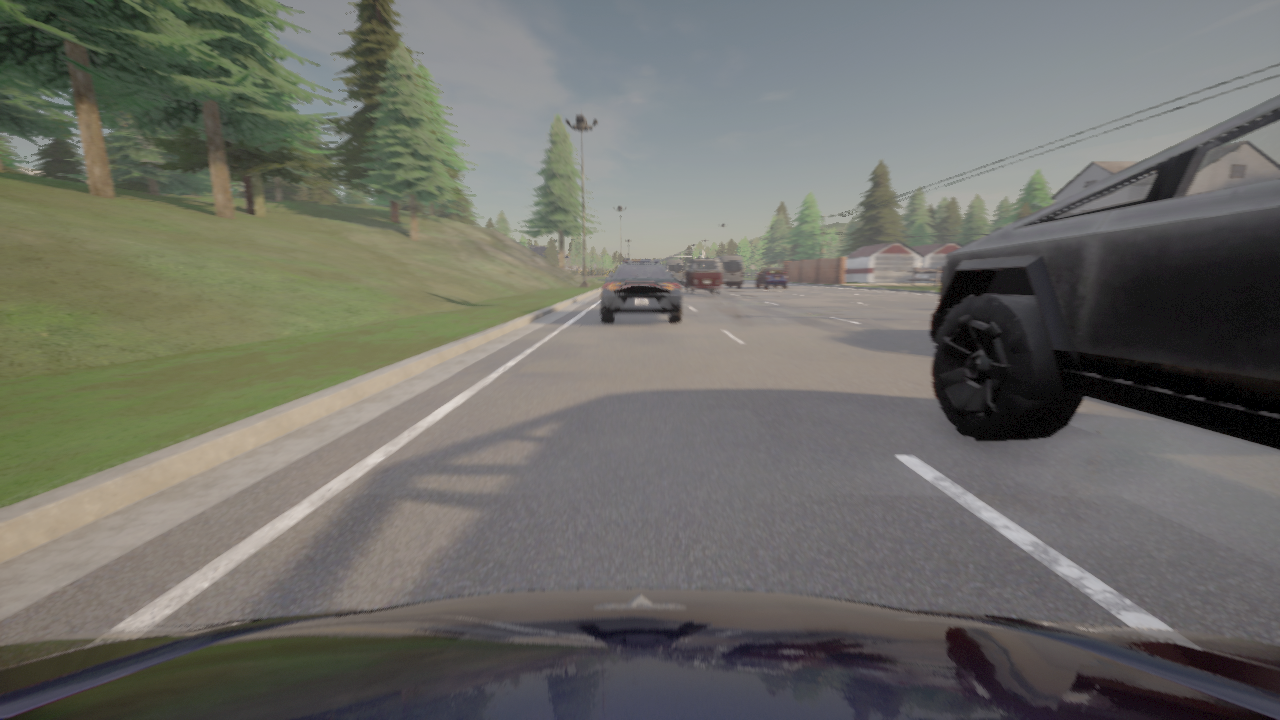cyclist: (0, 588, 1279, 719), (930, 95, 1279, 449), (601, 260, 681, 321), (683, 259, 722, 294), (715, 255, 742, 287), (755, 268, 787, 288), (664, 259, 684, 284)
